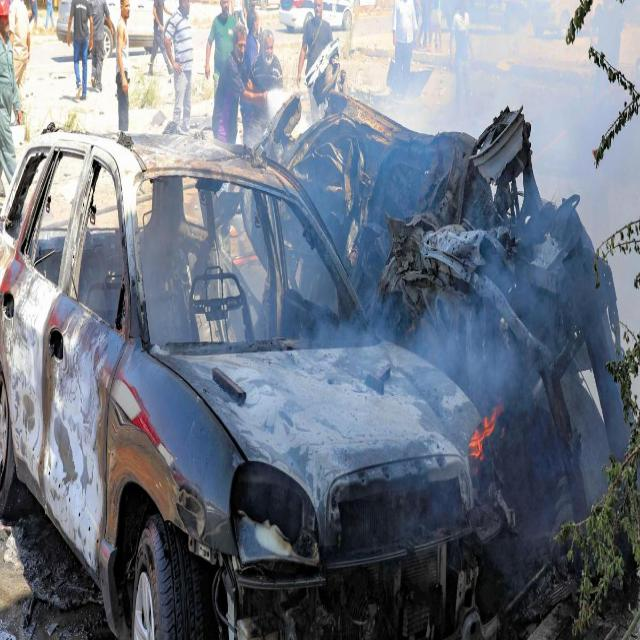fire: (467, 410, 499, 466)
smoke: (415, 11, 597, 120), (417, 313, 512, 397)
